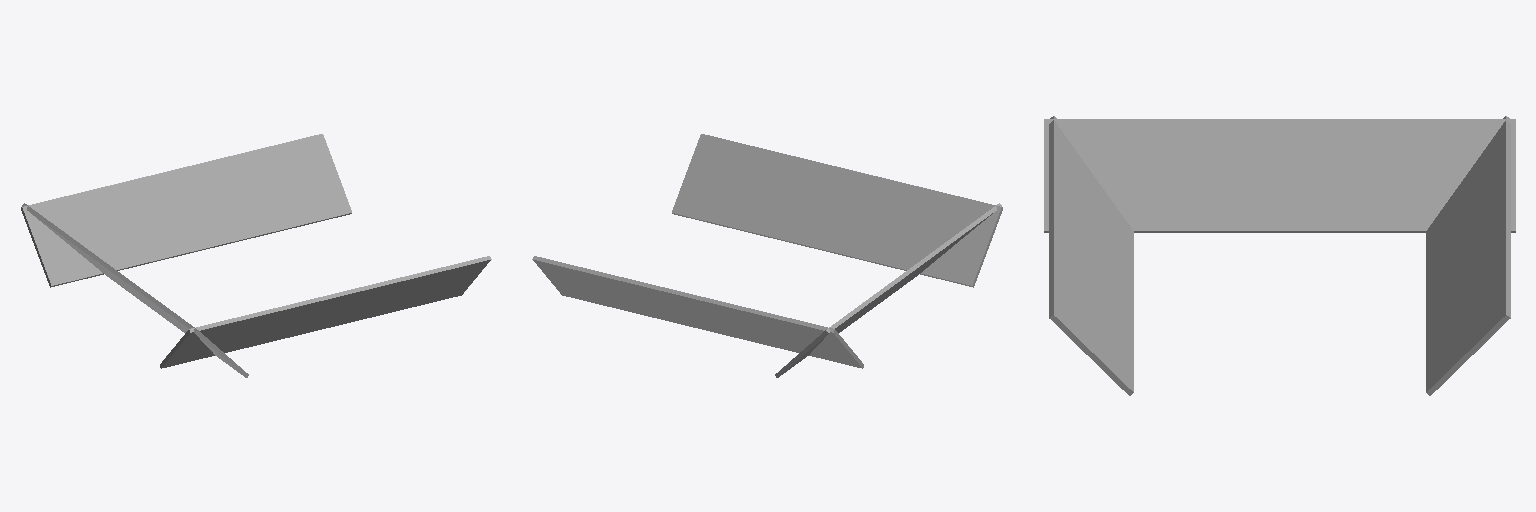
URDF robot description (bowl.urdf):
<?xml version="0.0" ?>
<robot name="bowl.urdf">
  <material name="mainColor">
    <color rgba=".67 .67 .67 1."/>
  </material>
<!--   <material name="mainColor">
    <color rgba=".55 .27 .1 1."/>
  </material> -->
<!--   <material name="mainColor">
    <color rgba="1. 1. 1. 1."/>
  </material> -->
  <material name="grey">
    <color rgba=".5 .5 .5 1."/>
  </material>

  <link name="world"/>

  <link name="base">
    <inertial>
      <origin rpy="0 0 0" xyz="0.0 0.0 0.0"/>
       <mass value=".1"/>
       <inertia ixx="1" ixy="0" ixz="0" iyy="1" iyz="0" izz="1"/>
    </inertial>

    <visual>
      <!-- right -->
      <origin rpy=".75 0 0" xyz="0 -.32 0"/>
      <geometry>
        <box size="0.8 .01 .2"/>
      </geometry>
      <material name="mainColor"/>
    </visual>
    <collision>
      <!-- right -->
      <origin rpy=".75 0 0" xyz="0 -.32 0"/>
      <geometry>
        <box size="0.8 .01 .2"/>
      </geometry>
    </collision>

    <visual>
      <!-- left -->
      <origin rpy="-.75 0 0" xyz="0 .32 0"/>
      <geometry>
        <box size="0.8 .01 .2"/>
      </geometry>
      <material name="mainColor"/>
    </visual>
    <collision>
      <!-- left -->
      <origin rpy="-.75 0 0" xyz="0 .32 0"/>
      <geometry>
        <box size="0.8 .01 .2"/>
      </geometry>
    </collision>

    <visual>
      <!-- back -->
      <origin rpy="0 -.75 0" xyz="-.32 0 0"/>
      <geometry>
        <box size=".01 0.8 .2"/>
      </geometry>
      <material name="mainColor"/>
    </visual>
    <collision>
      <!-- back -->
      <origin rpy="0 -.75 0" xyz="-.32 0 0"/>
      <geometry>
        <box size=".01 0.8 .2"/>
      </geometry>
    </collision>
  </link>

  <joint name="base_joint" type="fixed">
    <parent link="world"/>
    <child link="base"/>
  </joint>

</robot>

--- Facts derived from the render (not from the file) ---
Views: 3 orthographic renders of the robot side by side, from view 1: azimuth 30°, elevation 25°; view 2: azimuth 150°, elevation 25°; view 3: azimuth 270°, elevation 25°.
Model bowl.urdf with 2 links and 1 joints (1 fixed), rooted at world, posed all joints at 0.
Visible links, largest first — view 1: base; view 2: base; view 3: base.
Boxes of the visible links, left/top/right/bottom form: base: left=21, top=134, right=491, bottom=377; base: left=532, top=134, right=1002, bottom=377; base: left=1044, top=116, right=1515, bottom=395.
Size in the robot's own frame: 0.8 by 0.8 by 0.1532 metres.
Geometry: primitives only (box / cylinder / sphere), no mesh files.